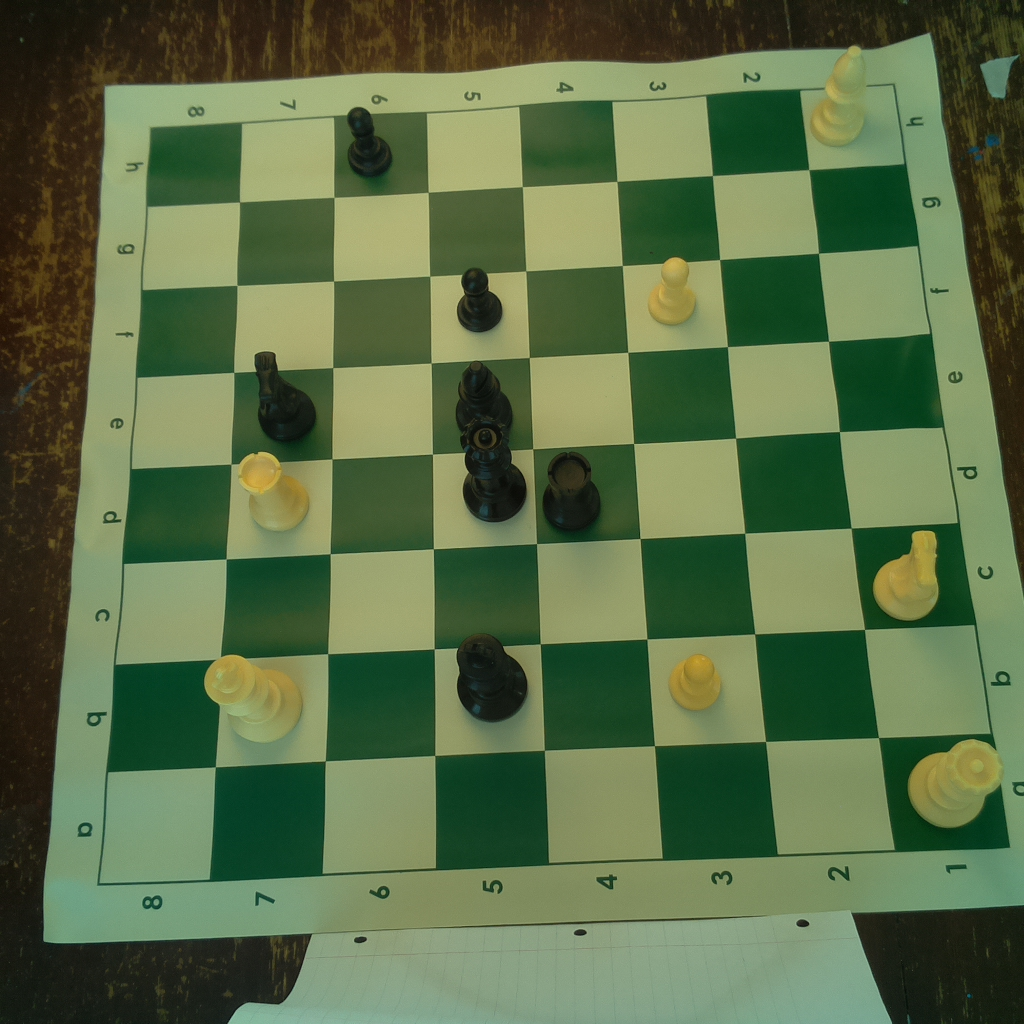black_bishop: (450, 358, 516, 447)
black_king: (449, 628, 532, 725)
black_knight: (247, 345, 319, 440)
black_pawn: (341, 105, 397, 178), (455, 269, 508, 335)
black_queen: (455, 415, 529, 528)
black_rook: (542, 448, 605, 535)
file_a: (96, 734, 1010, 882)
file_b: (106, 623, 993, 773)
file_c: (114, 522, 977, 662)
file_d: (123, 426, 958, 566)
file_e: (131, 334, 945, 470)
file_f: (138, 245, 931, 379)
file_g: (142, 165, 921, 287)
file_h: (145, 88, 907, 208)
outline: (97, 86, 1012, 883)
rank_1: (802, 86, 1010, 853)
rank_2: (708, 91, 897, 854)
rank_3: (612, 95, 780, 860)
rank_4: (519, 99, 664, 861)
rank_5: (424, 105, 551, 871)
rank_6: (323, 113, 434, 874)
rank_7: (211, 117, 336, 882)
rank_8: (96, 123, 242, 887)
white_bishop: (801, 39, 879, 152)
white_king: (201, 651, 307, 743)
white_knight: (866, 525, 941, 630)
white_pawn: (645, 253, 701, 326), (668, 651, 724, 717)
white_queen: (899, 736, 1006, 836)
white_rook: (231, 449, 314, 530)
